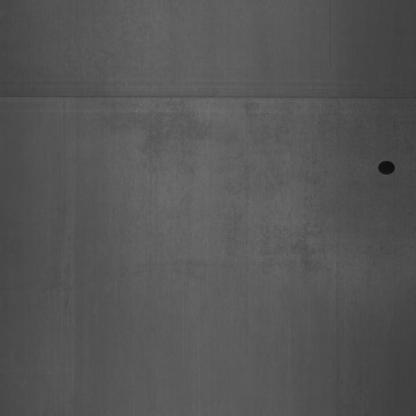punching_hole: (378, 150, 404, 183)
welding_line: (3, 83, 416, 116)
